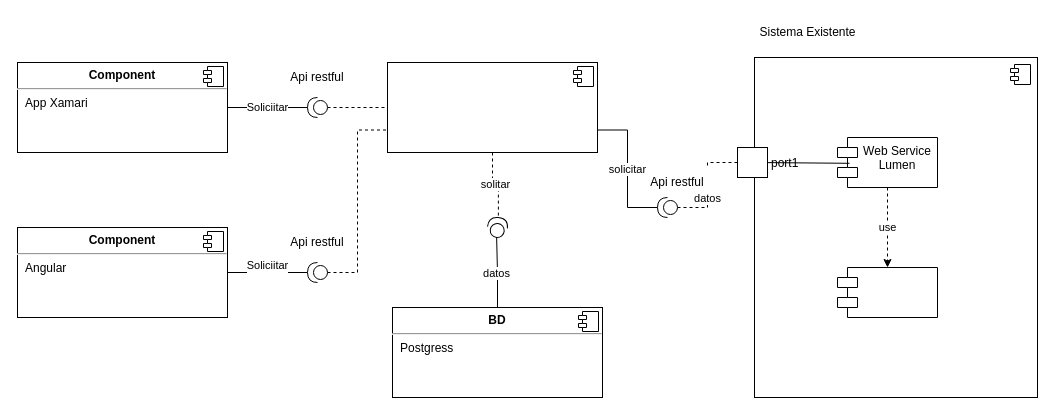
Some shapes in this 1055 by 415 pixel diagram are drawn without their labels. Here are the shapes that lost their labels. From the top down, the centre of each, then its label:
At point (492, 107): "Web Service DjangoRestFull".
At point (887, 292): "BD MariaDB".
